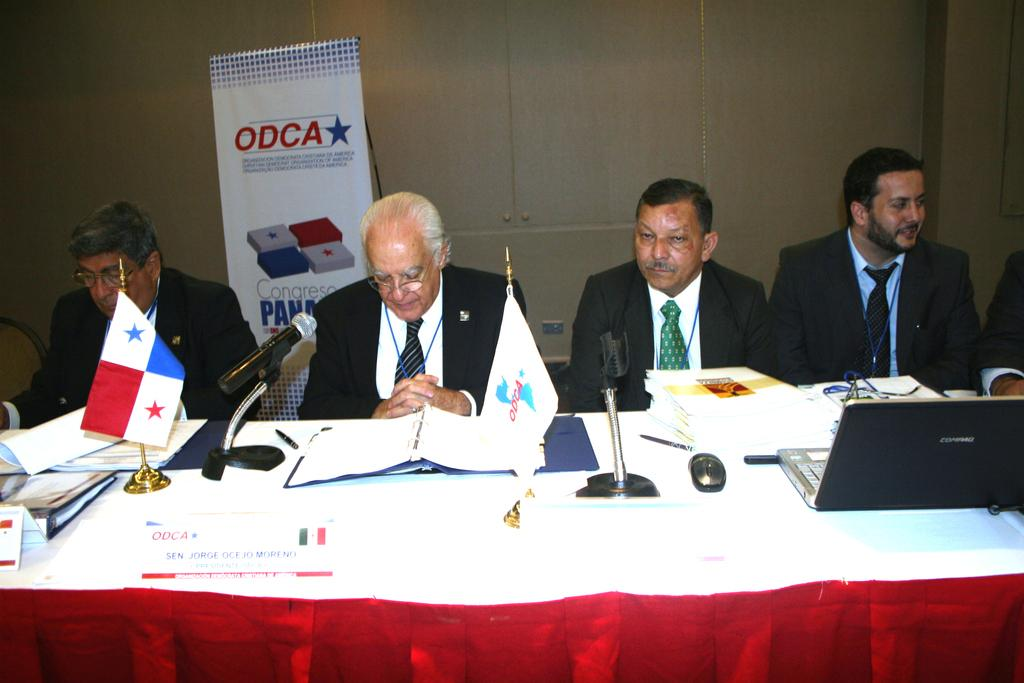no_helmet: (40, 239, 173, 313), (336, 238, 464, 308), (622, 228, 734, 288), (839, 205, 930, 267)
none: (9, 286, 265, 406), (754, 266, 1000, 380), (565, 266, 785, 381), (288, 287, 539, 385)
